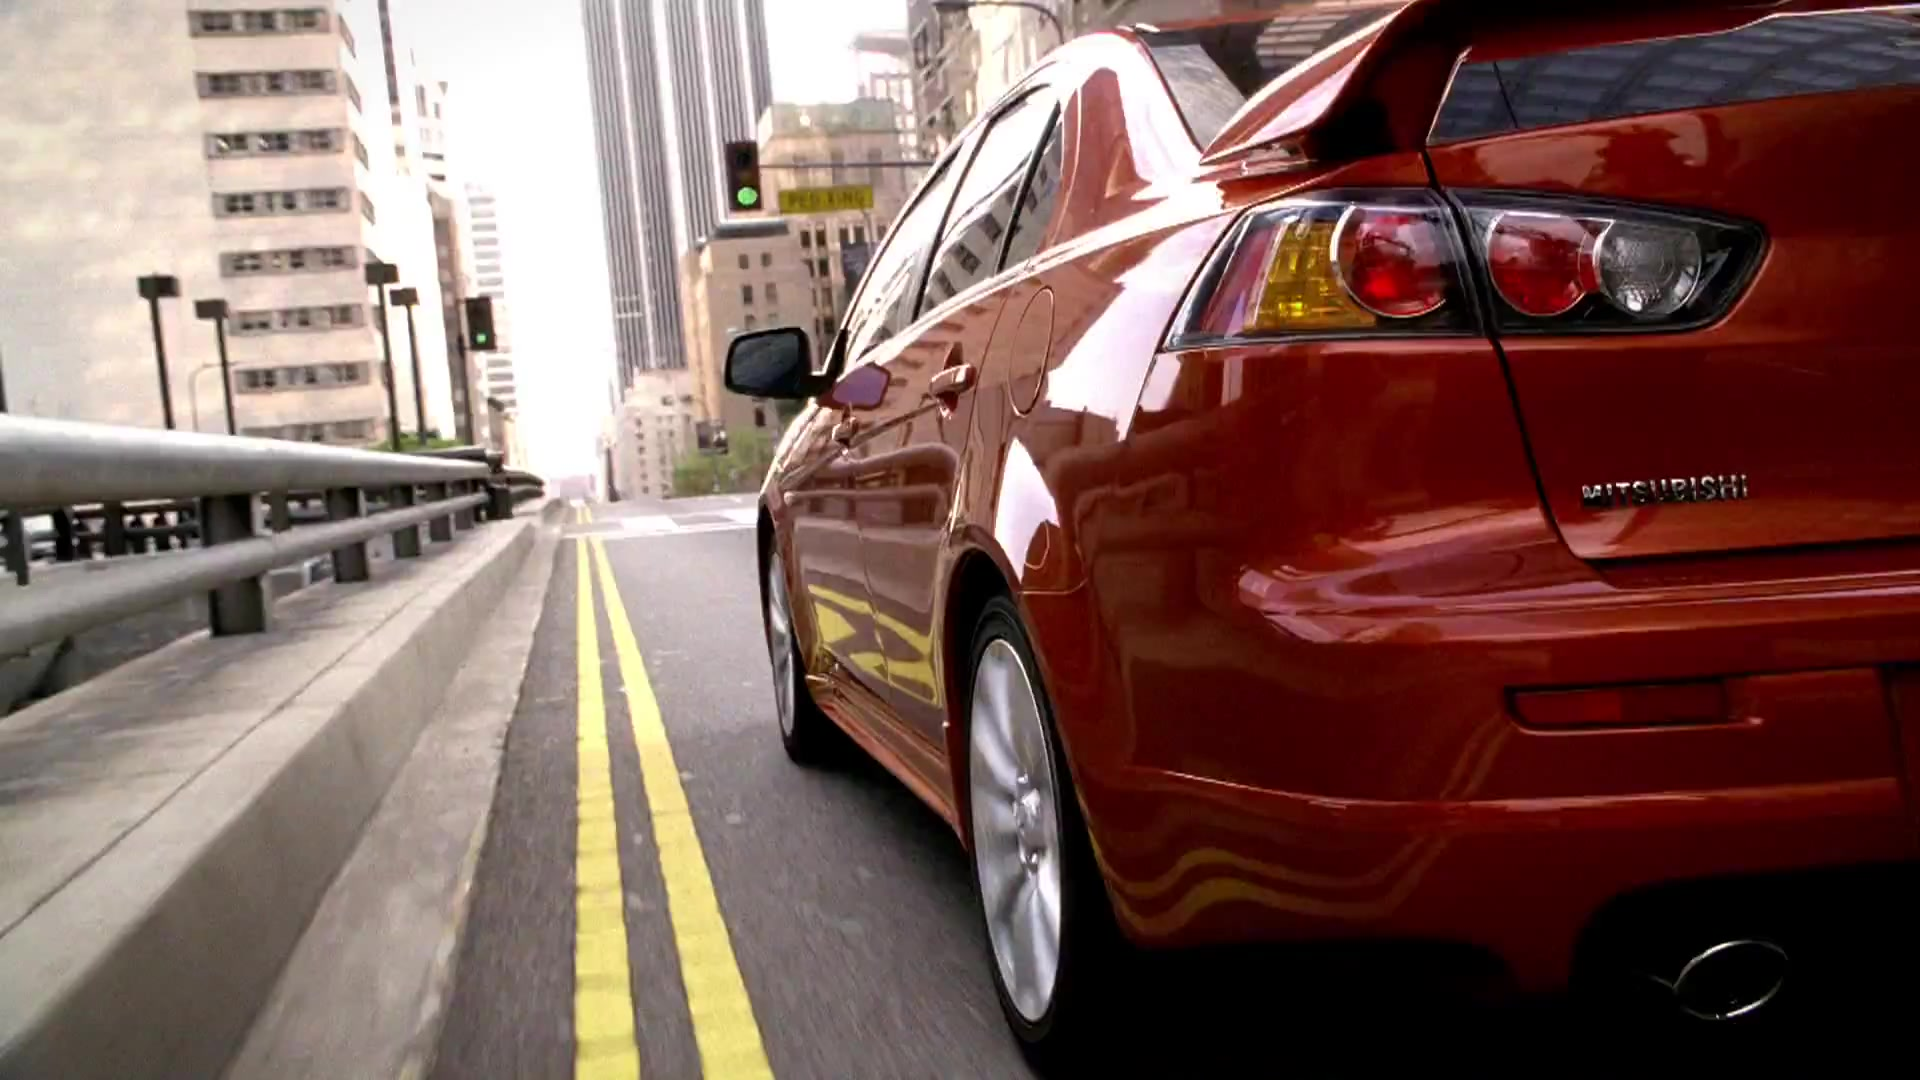car: (720, 7, 1917, 1080)
